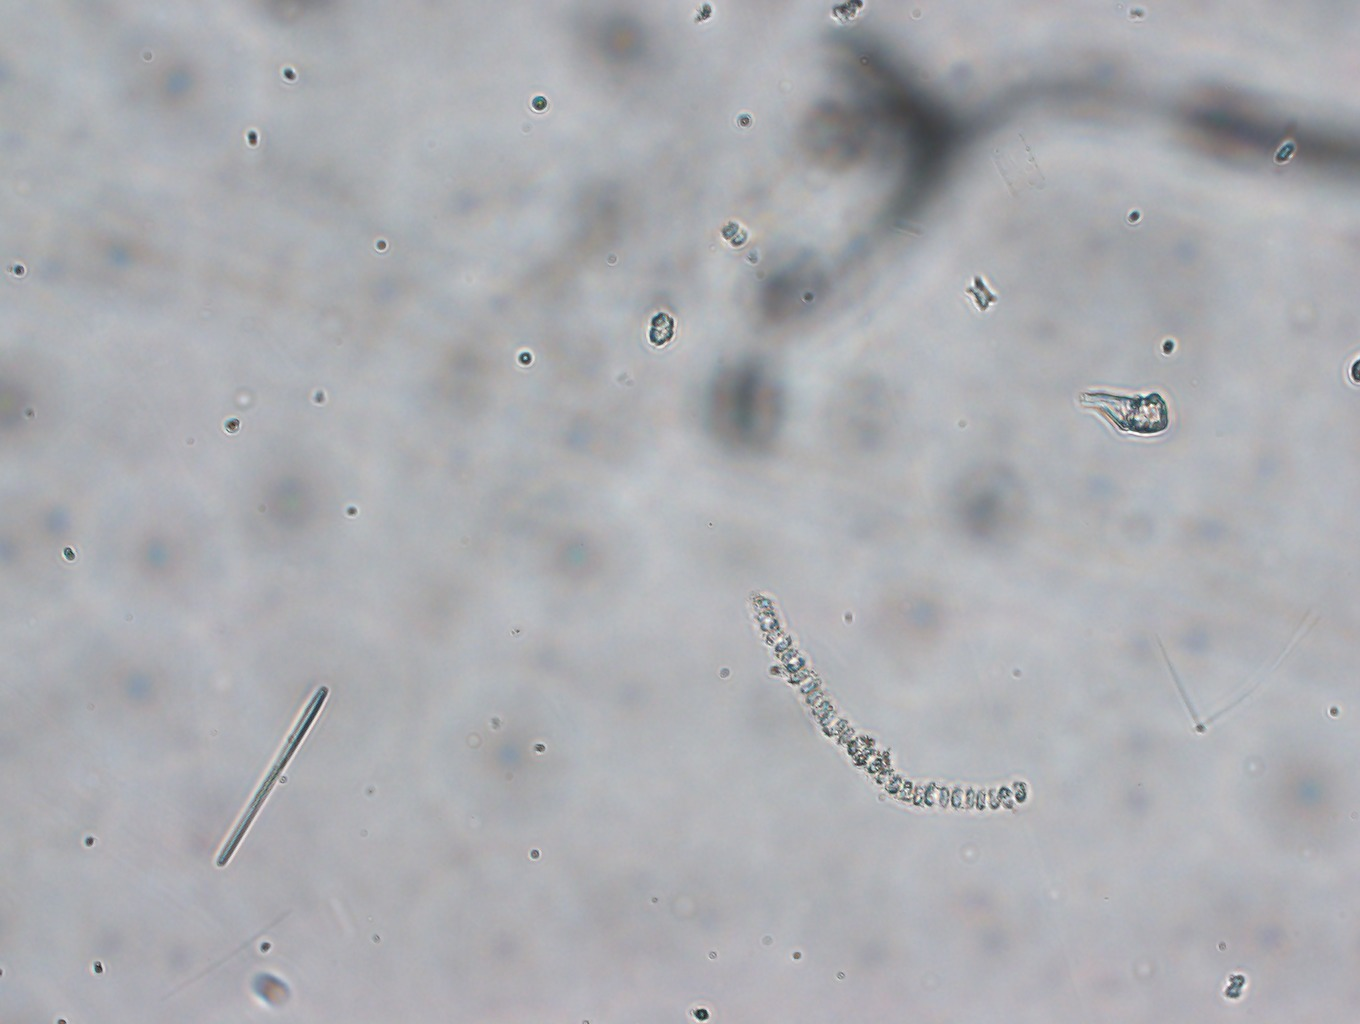skeletonema: (742, 582, 1034, 822)
